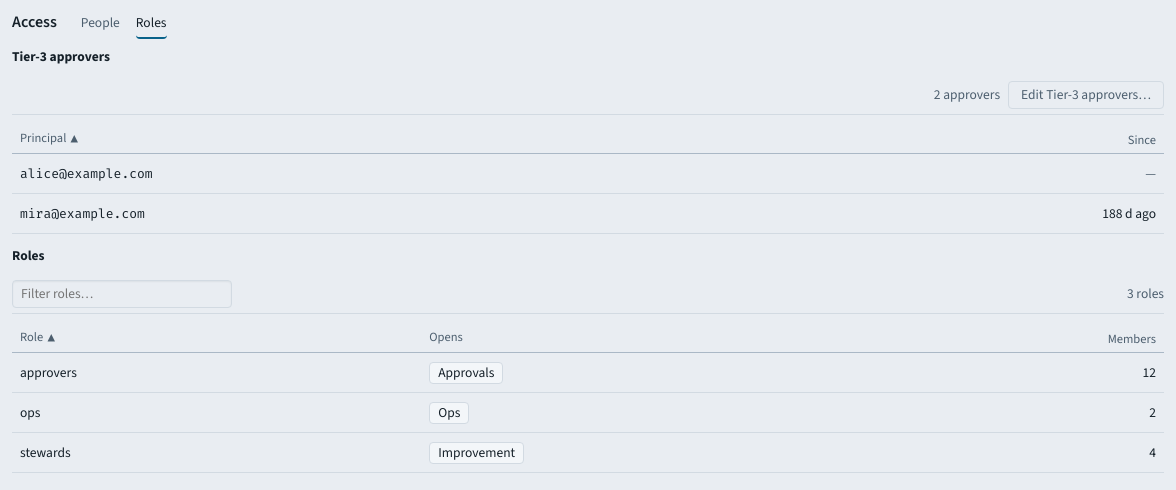
it: §15 Roles — the pinned Tier-3 list and the roles table › renders the roles, sorted Role A–Z, with the count following the search
expect the text "3 roles" is shown: met, box [1127, 284, 1164, 304]
In the search field labelled "Filter roles…": (122, 294) [12, 280, 232, 308], type "steward"
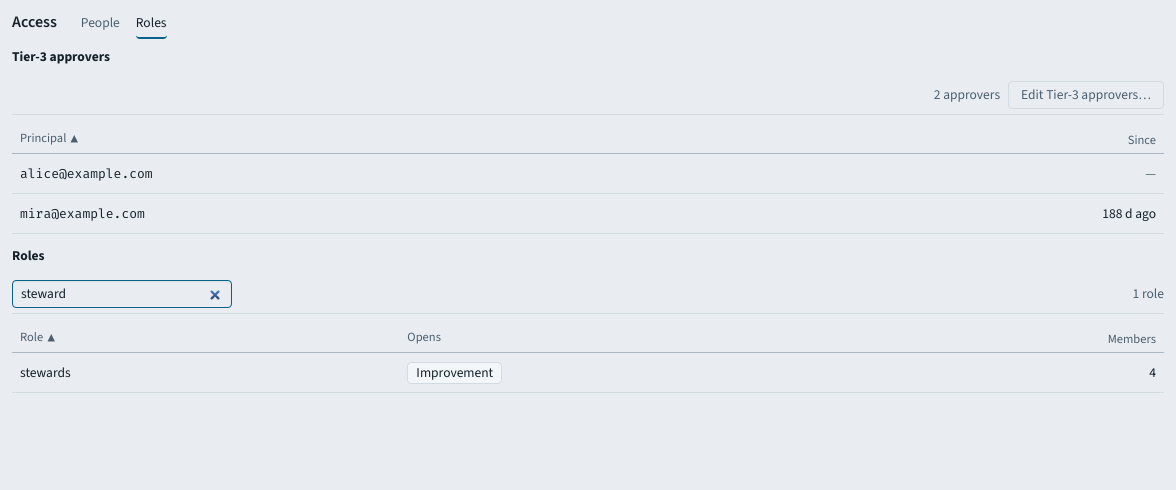
expect the text "1 role" is shown: met, box [1133, 284, 1164, 304]
